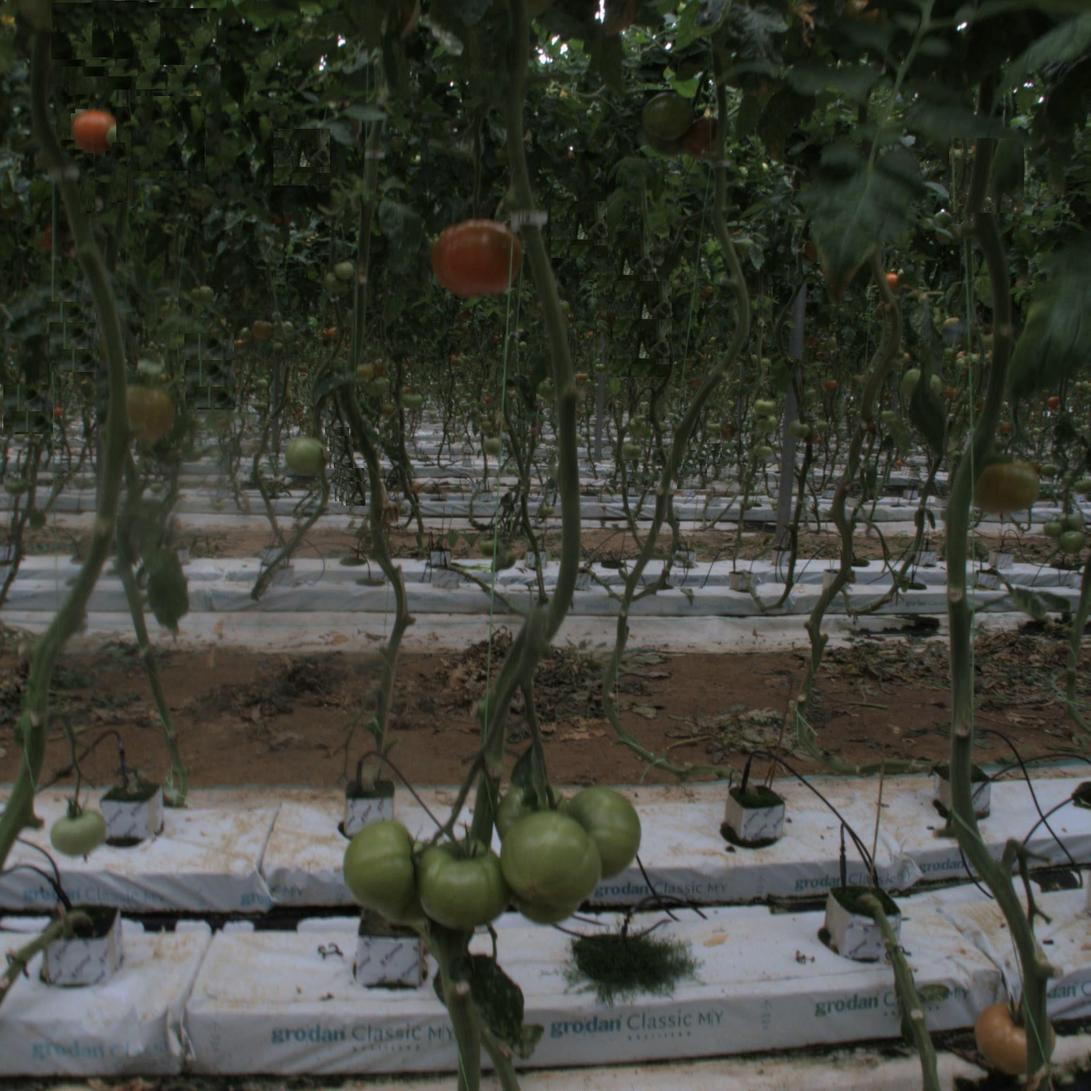['unripe', 'semi-ripe', 'fully-ripe']: (500, 804, 608, 912), (554, 789, 637, 872), (417, 843, 500, 926), (344, 823, 427, 906), (641, 90, 701, 150), (116, 386, 171, 440), (51, 804, 106, 858), (286, 434, 331, 479)
